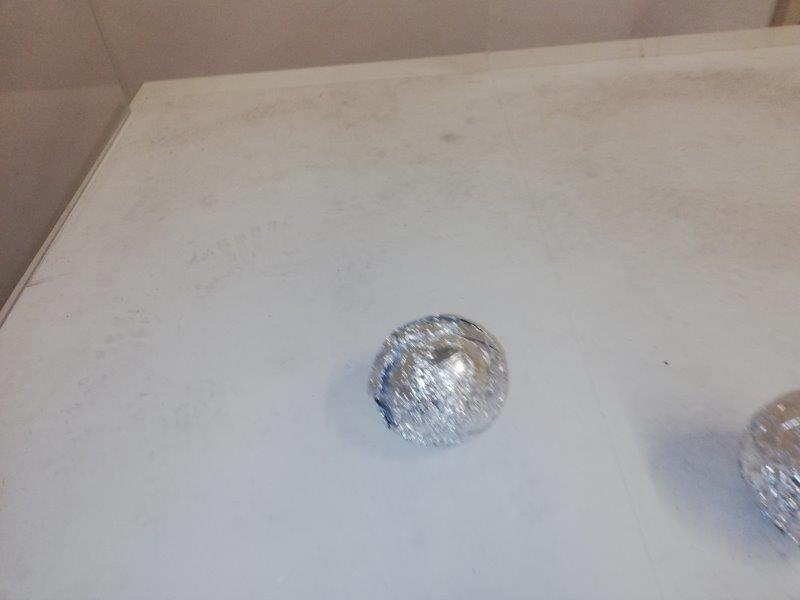bianca: (370, 313, 511, 447), (737, 389, 800, 548)
